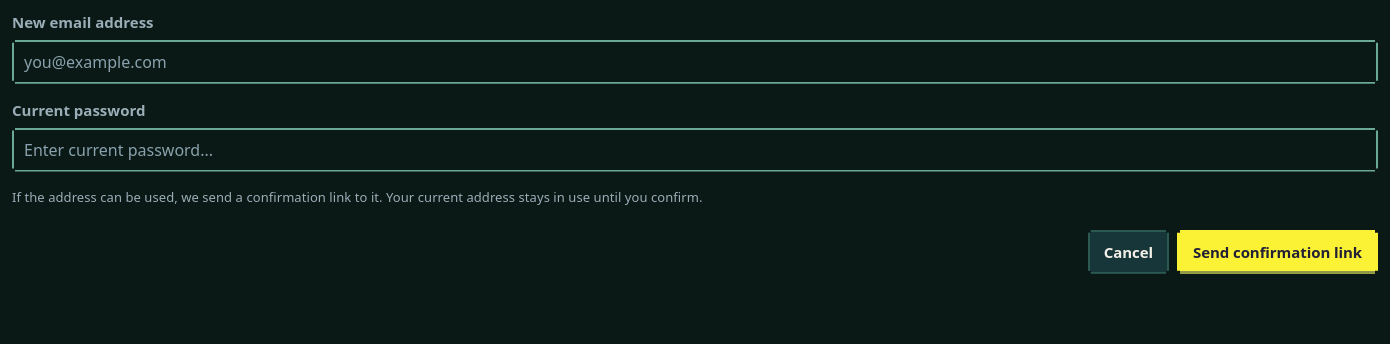
Test case: ChangeEmailForm › a dead session shows the server message instead
The image size is (1390, 344).
Type "new@example.com" into the field labelled "New email address" at (695, 62), box [12,40,1378,84]
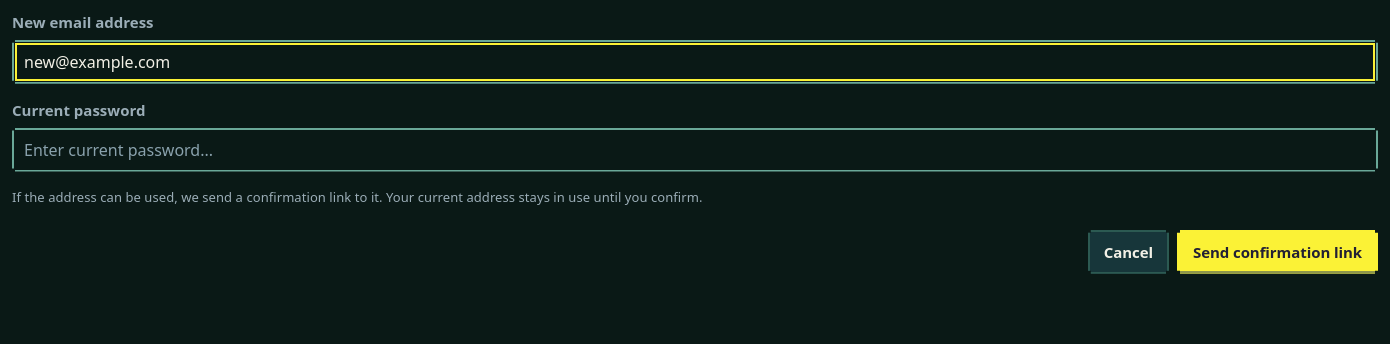
Type "long-enough-1" into the password field labelled "Current password" at (695, 150), box [12,128,1378,172]
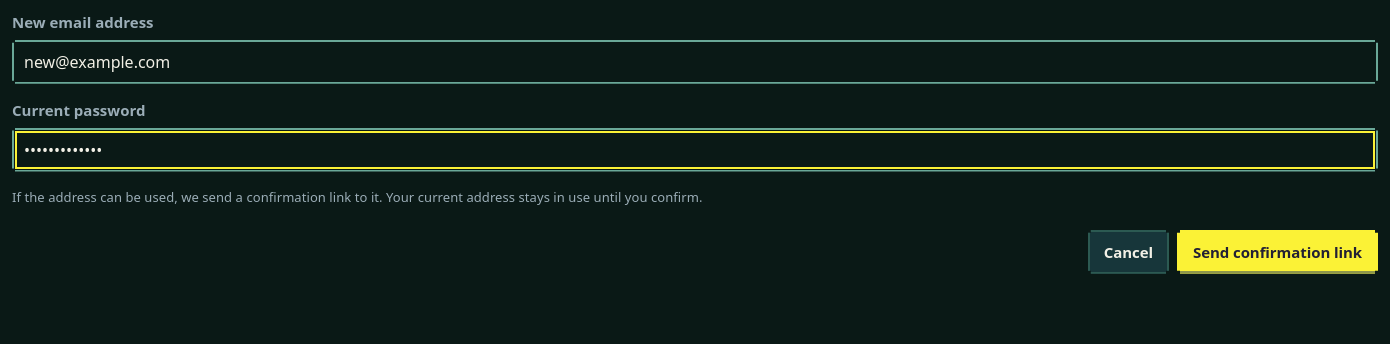
Click the button "Send confirmation link" at (1278, 252), box [1177,230,1378,274]
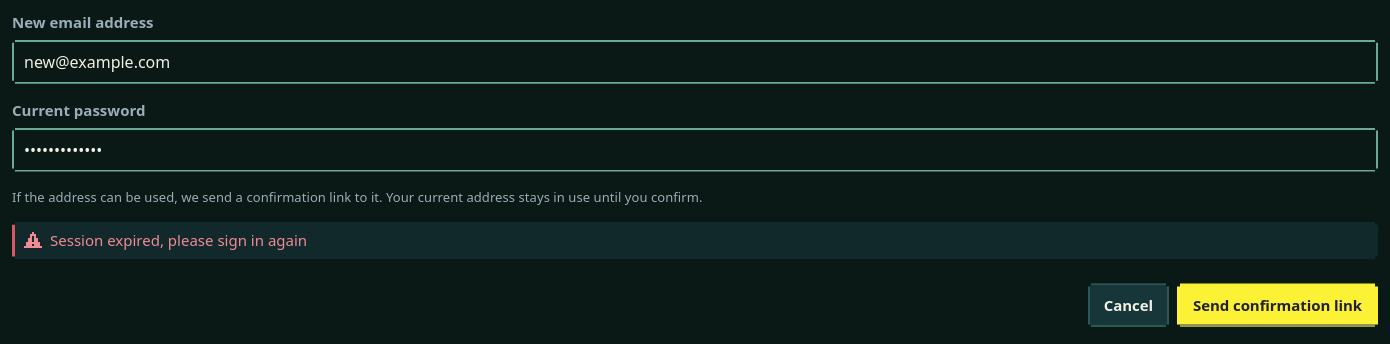
Now the message reads "Session expired, please sign in again", box [50,230,307,250]
